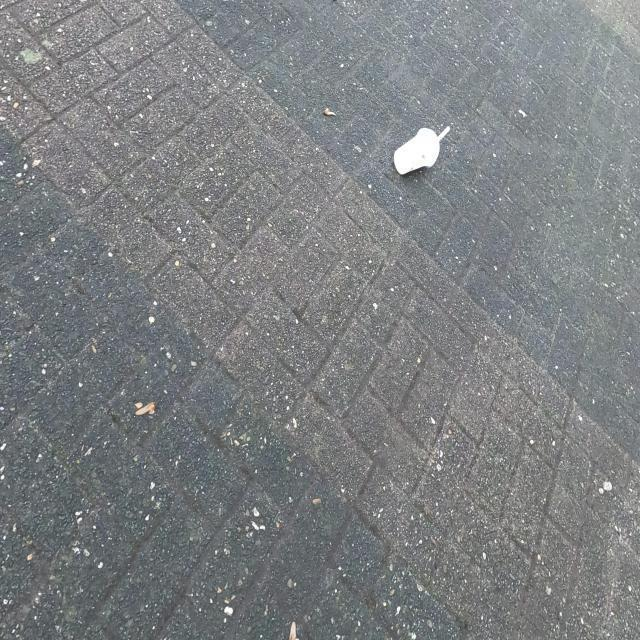Cup: (384, 110, 454, 185)
